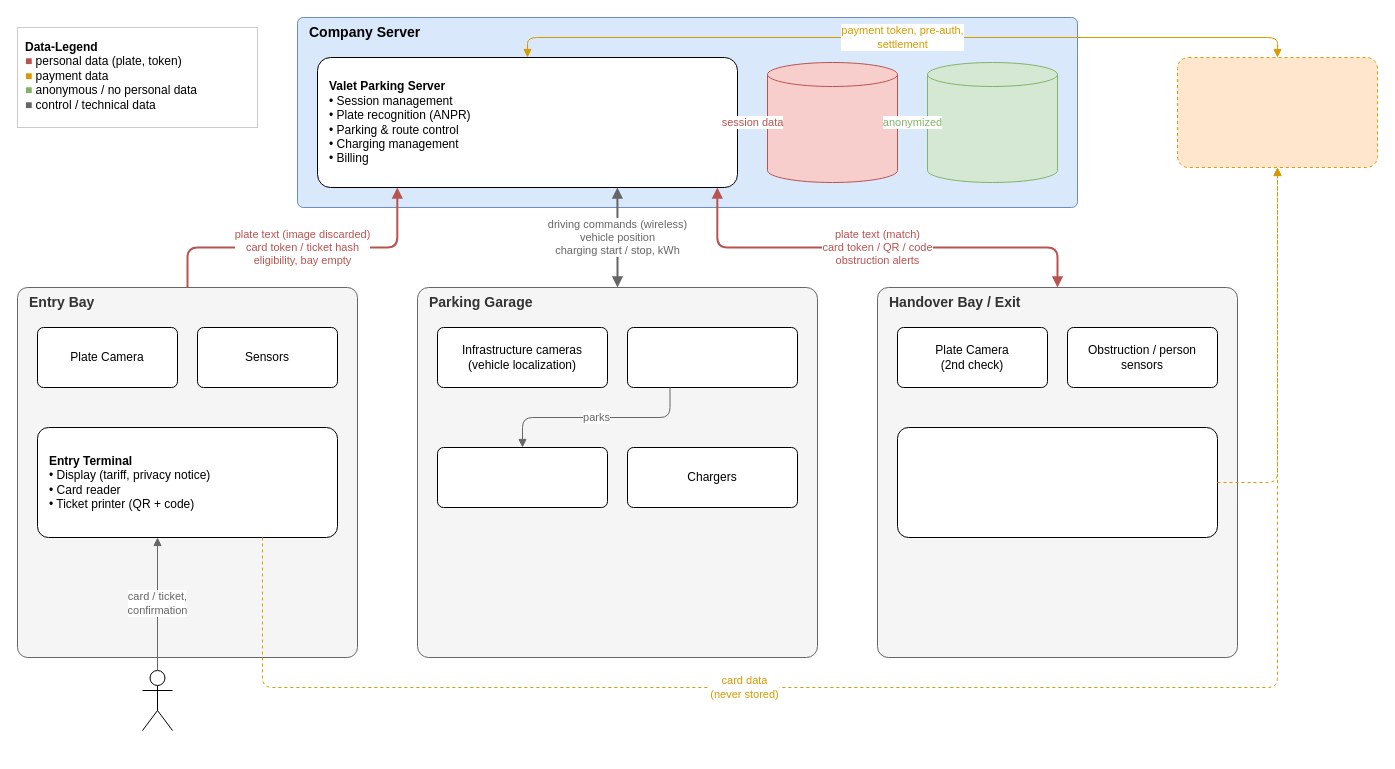
Some shapes in this 1395 by 769 pixel diagram are drawn without their labels. Here are the shapes that lost their labels. From the top down, the centre of each, then its label:
the point at 832,122: Session DB plate, card token / ticket token hash
the point at 992,122: Statistics anonymized / aggregated
the point at 1277,112: Payment Provider (external processor, PCI DSS, DPA)
the point at 712,357: Vehicle (Level 4) on-board sensors
the point at 522,477: Parking spaces
the point at 1057,482: Exit Terminal • Card reader • QR scanner • Keypad (alphanumeric code)
the point at 157,700: Driver
